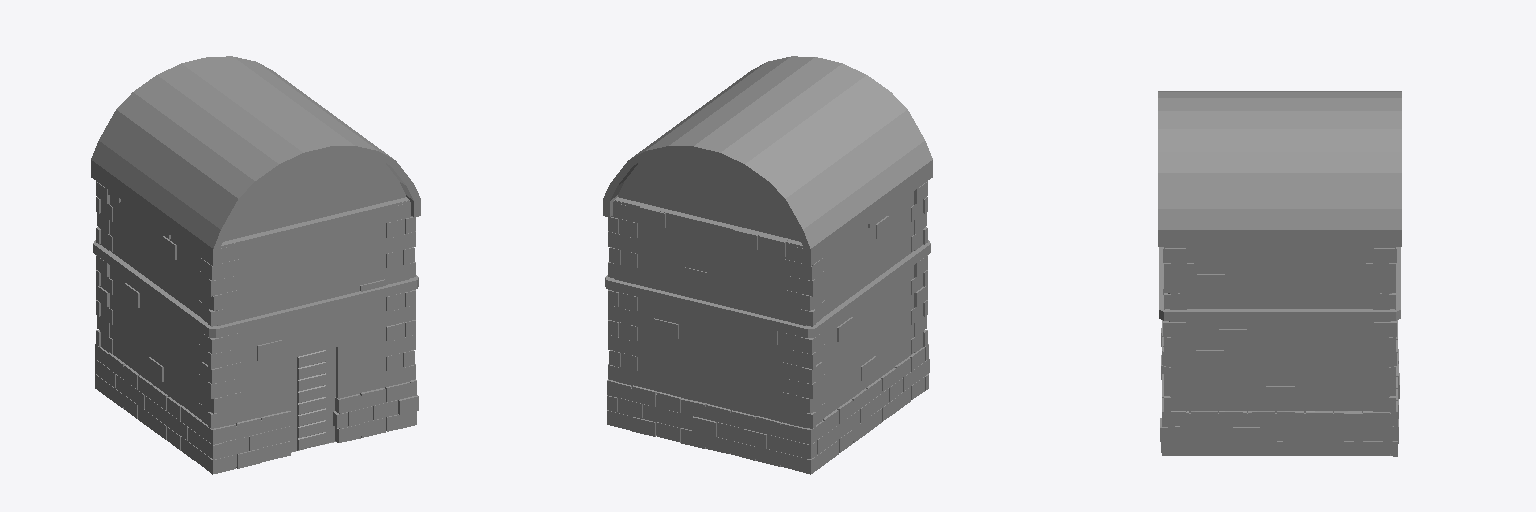
Rendered from 2Story_RoundRoof_Base.obj.
3 views of the same model, side by side, from view 1: azimuth 30°, elevation 25°; view 2: azimuth 150°, elevation 25°; view 3: azimuth 270°, elevation 25° (orthographic).
Parts seen in each view (by area): view 1: 2Story_RoundRoof_Base_Cube.044; view 2: 2Story_RoundRoof_Base_Cube.044; view 3: 2Story_RoundRoof_Base_Cube.044.
Part boxes in pixels (left/top/right/bottom): 2Story_RoundRoof_Base_Cube.044: left=91, top=56, right=420, bottom=474; 2Story_RoundRoof_Base_Cube.044: left=603, top=56, right=932, bottom=474; 2Story_RoundRoof_Base_Cube.044: left=1158, top=91, right=1401, bottom=456.
Size of the model in its own units: 2.11 by 2.9 by 2.13.